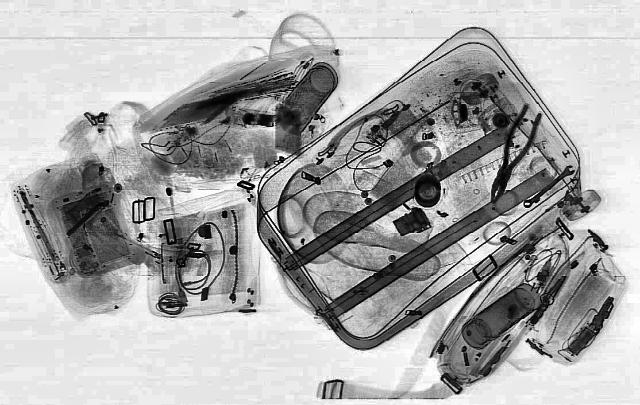Pliers: (478, 102, 548, 204)
